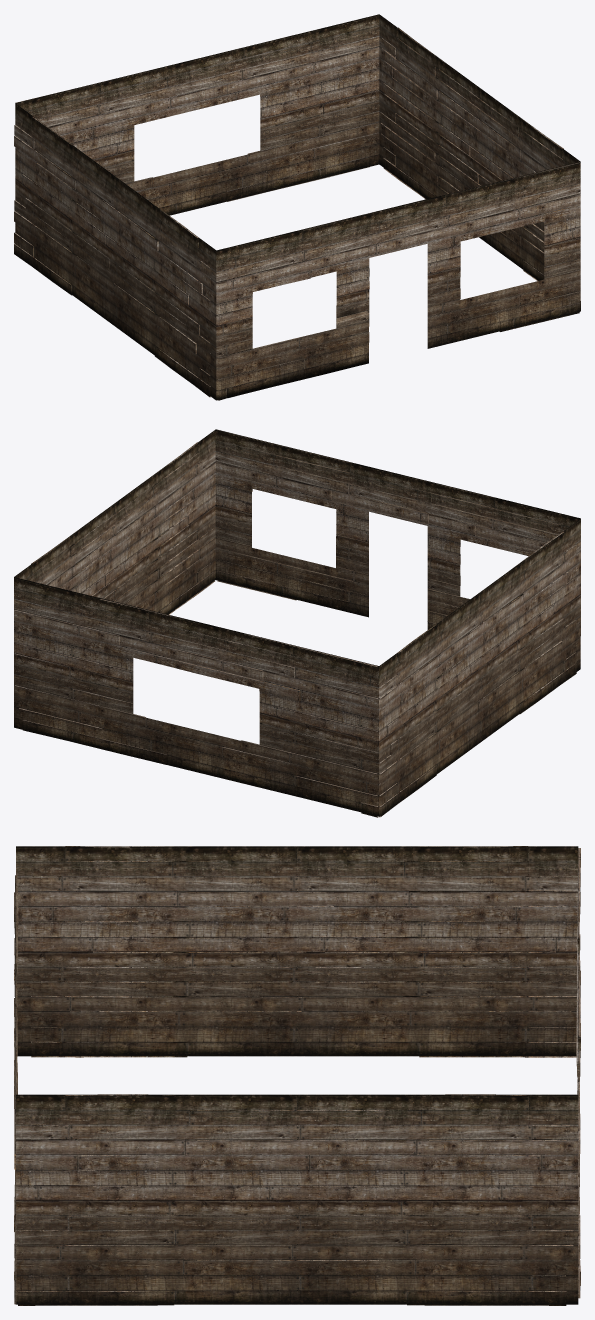
Rendered from cabinWallsExterior_01_LOD1.FBX.
3 views of the same model, one above another, from view 1: azimuth 30°, elevation 25°; view 2: azimuth 150°, elevation 25°; view 3: azimuth 270°, elevation 25° (orthographic). The views are drawn at different scales.
Parts seen in each view (by area): view 1: cabinWallsExterior_01_LOD1; view 2: cabinWallsExterior_01_LOD1; view 3: cabinWallsExterior_01_LOD1.
Boxes of the visible parts, x1,y1,x2,y2 form: cabinWallsExterior_01_LOD1: (14, 14, 580, 400); cabinWallsExterior_01_LOD1: (14, 429, 580, 817); cabinWallsExterior_01_LOD1: (14, 846, 580, 1305).
Bounding box in the file's own units: 42.34 × 16.65 × 40.57.
2 materials, 2 textured.
